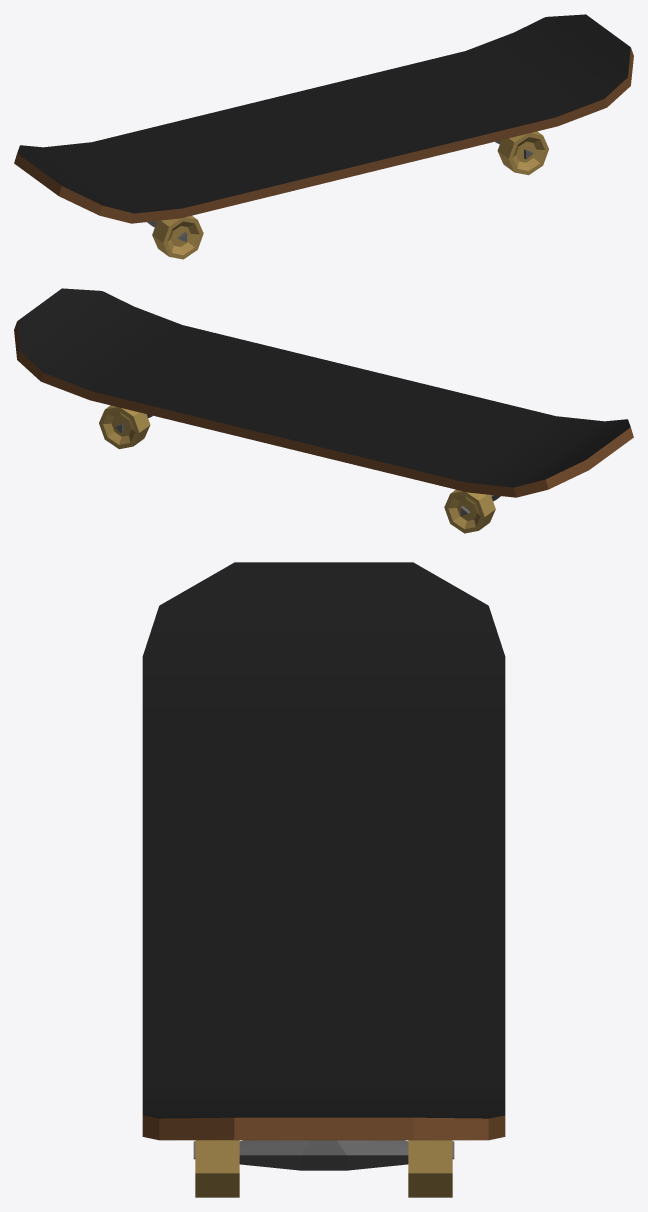
The model's file is Skateboard.fbx.
3 views of the same model, one above another, from view 1: azimuth 30°, elevation 25°; view 2: azimuth 150°, elevation 25°; view 3: azimuth 270°, elevation 25° (orthographic). The views are drawn at different scales.
Parts seen in each view (by area): view 1: Skateboard; view 2: Skateboard; view 3: Skateboard.
Boxes of the visible parts, <box> form: Skateboard: <box>14,14,633,259</box>; Skateboard: <box>14,288,633,533</box>; Skateboard: <box>142,562,505,1197</box>.
Size of the model in its own units: 28.36 by 4.41 by 7.74.
